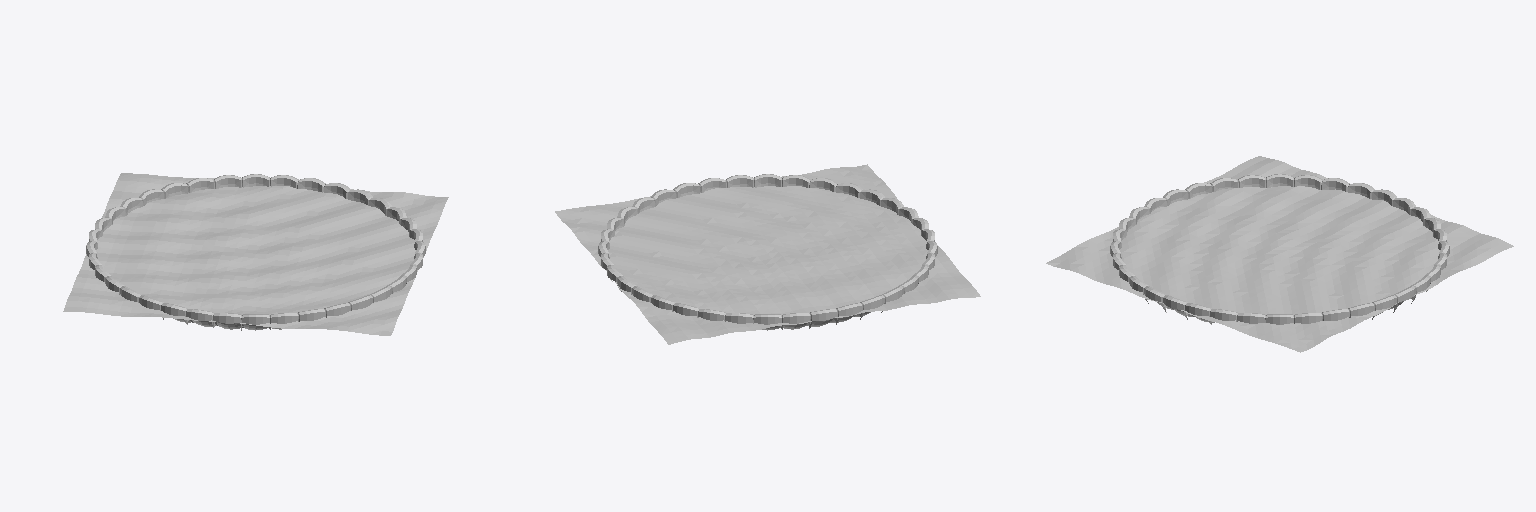
File: pond3.obj
3 views of the same model, side by side, from view 1: azimuth 30°, elevation 25°; view 2: azimuth 150°, elevation 25°; view 3: azimuth 270°, elevation 25° (orthographic).
Visible parts, largest first — view 1: water2_water2Shape, border_borderShape; view 2: water2_water2Shape, border_borderShape; view 3: water2_water2Shape, border_borderShape.
Boxes of the visible parts, <box> form: water2_water2Shape: <box>63,173,448,335</box>; border_borderShape: <box>86,174,425,330</box>; water2_water2Shape: <box>555,164,980,344</box>; border_borderShape: <box>598,174,937,330</box>; water2_water2Shape: <box>1046,156,1513,352</box>; border_borderShape: <box>1110,174,1449,324</box>.
Bounding box in the file's own units: 75.85 × 4.16 × 75.85.